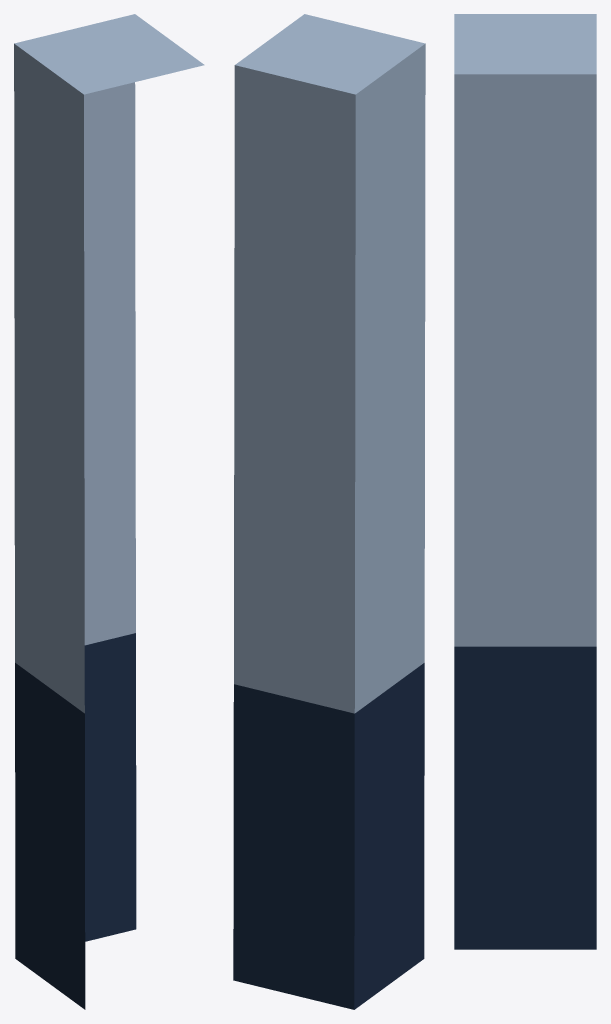
File: Wall_Corner.fbx
3 renders of one model, left to right at view 1: azimuth 30°, elevation 25°; view 2: azimuth 150°, elevation 25°; view 3: azimuth 270°, elevation 25°, orthographic. The views are drawn at different scales.
Parts seen in each view (by area): view 1: BackCorner; view 2: BackCorner; view 3: BackCorner.
Part boxes in pixels (x1,y1,x2,y2): BackCorner: [14, 14, 204, 1009]; BackCorner: [233, 14, 425, 1009]; BackCorner: [454, 14, 596, 949].
Size of the model in its own units: 30.33 by 217 by 30.
